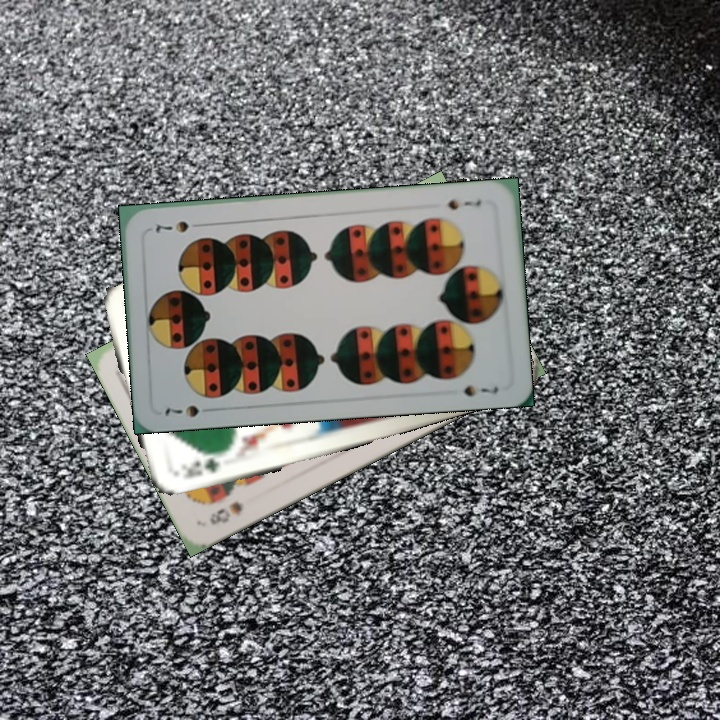GK: (178, 454, 222, 481)
S7: (161, 401, 201, 420), (443, 195, 484, 212)
S8: (205, 497, 245, 528)
